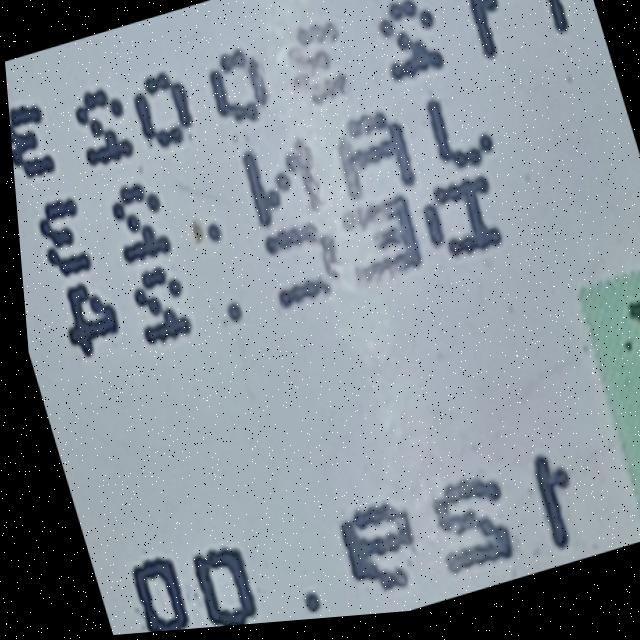sentence: (8, 0, 569, 180), (35, 105, 489, 287), (60, 174, 496, 357), (122, 462, 563, 634)
